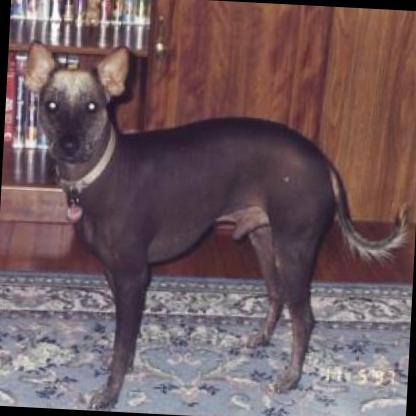Mexican_hairless: (5, 39, 410, 416)
